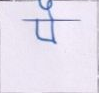ai_matra: (38, 0, 57, 19)
